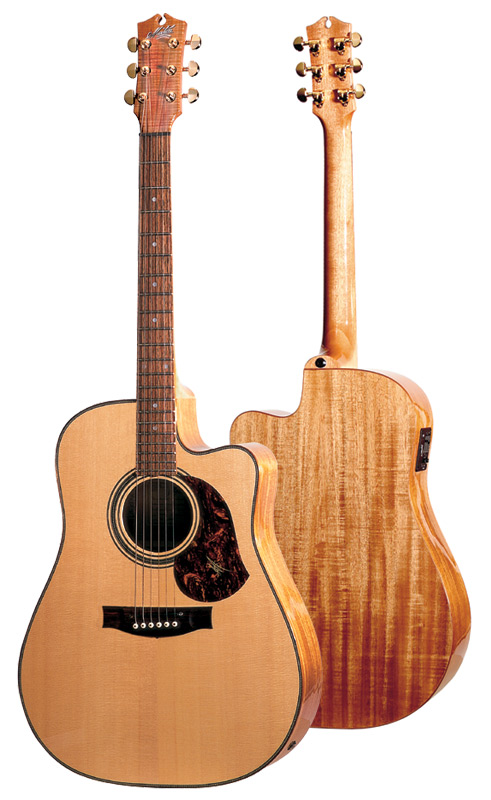guitar: (18, 14, 328, 792), (228, 9, 475, 730)
